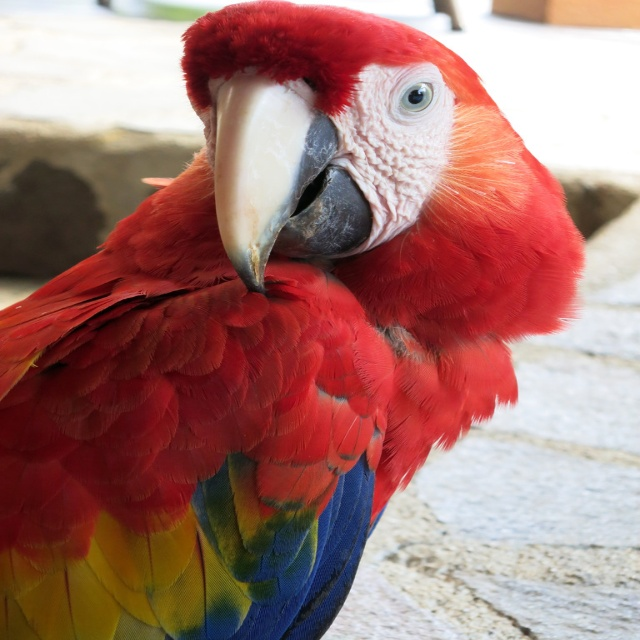Parrot: (0, 0, 587, 640)
